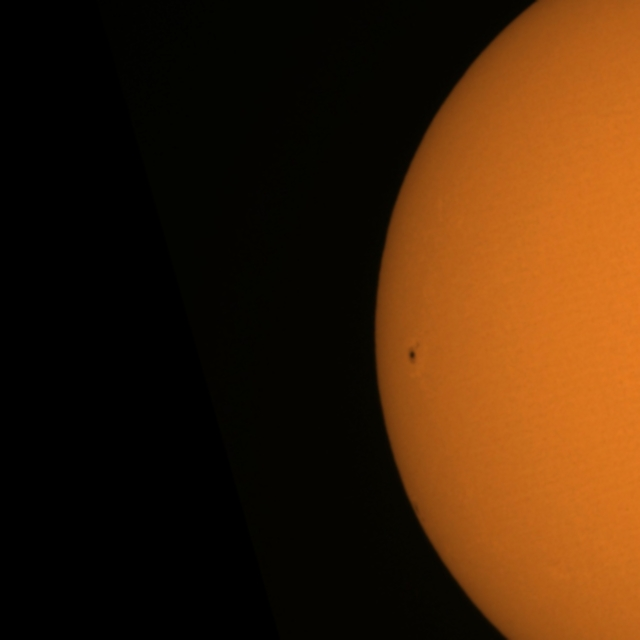sunspot: (406, 340, 421, 366)
